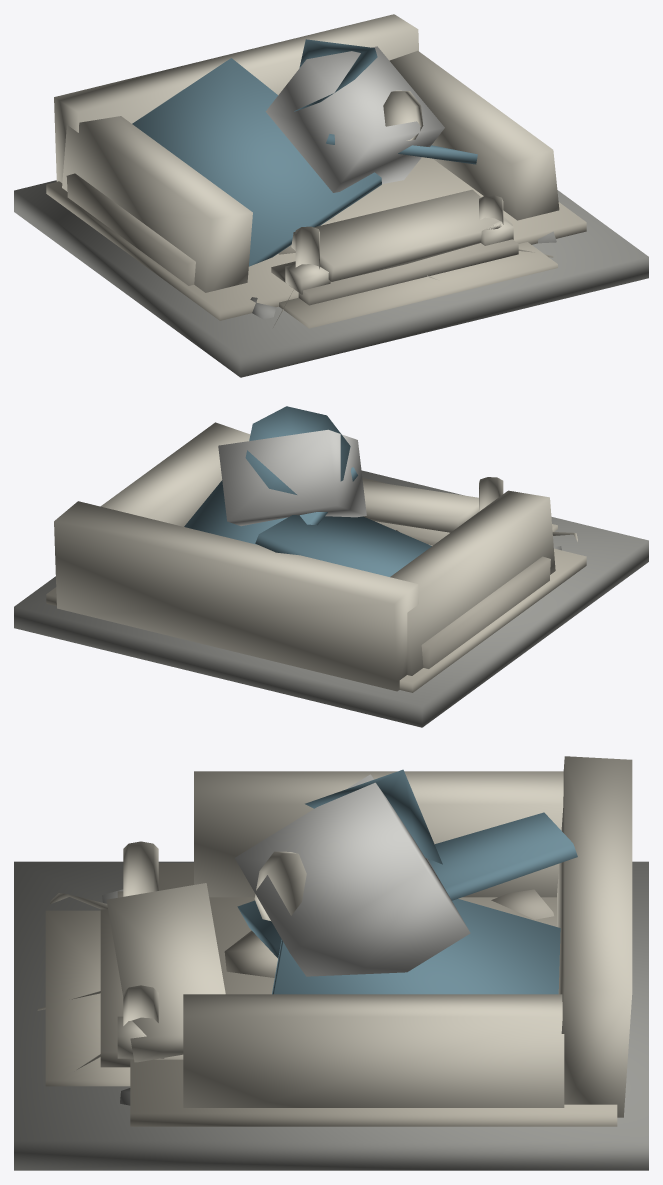
File: courthouse-wreck.glb
The picture shows the model from 3 angles, top to bottom: view 1: azimuth 30°, elevation 25°; view 2: azimuth 150°, elevation 25°; view 3: azimuth 270°, elevation 25°; orthographic projection. The views are drawn at different scales.
Visible parts, largest first — view 1: world; view 2: world; view 3: world.
Boxes of the visible parts, bbox=[...] form: world: bbox=[14, 14, 648, 377]; world: bbox=[14, 406, 648, 727]; world: bbox=[14, 756, 648, 1170].
Size of the model in its own units: 15.6 by 7 by 15.
